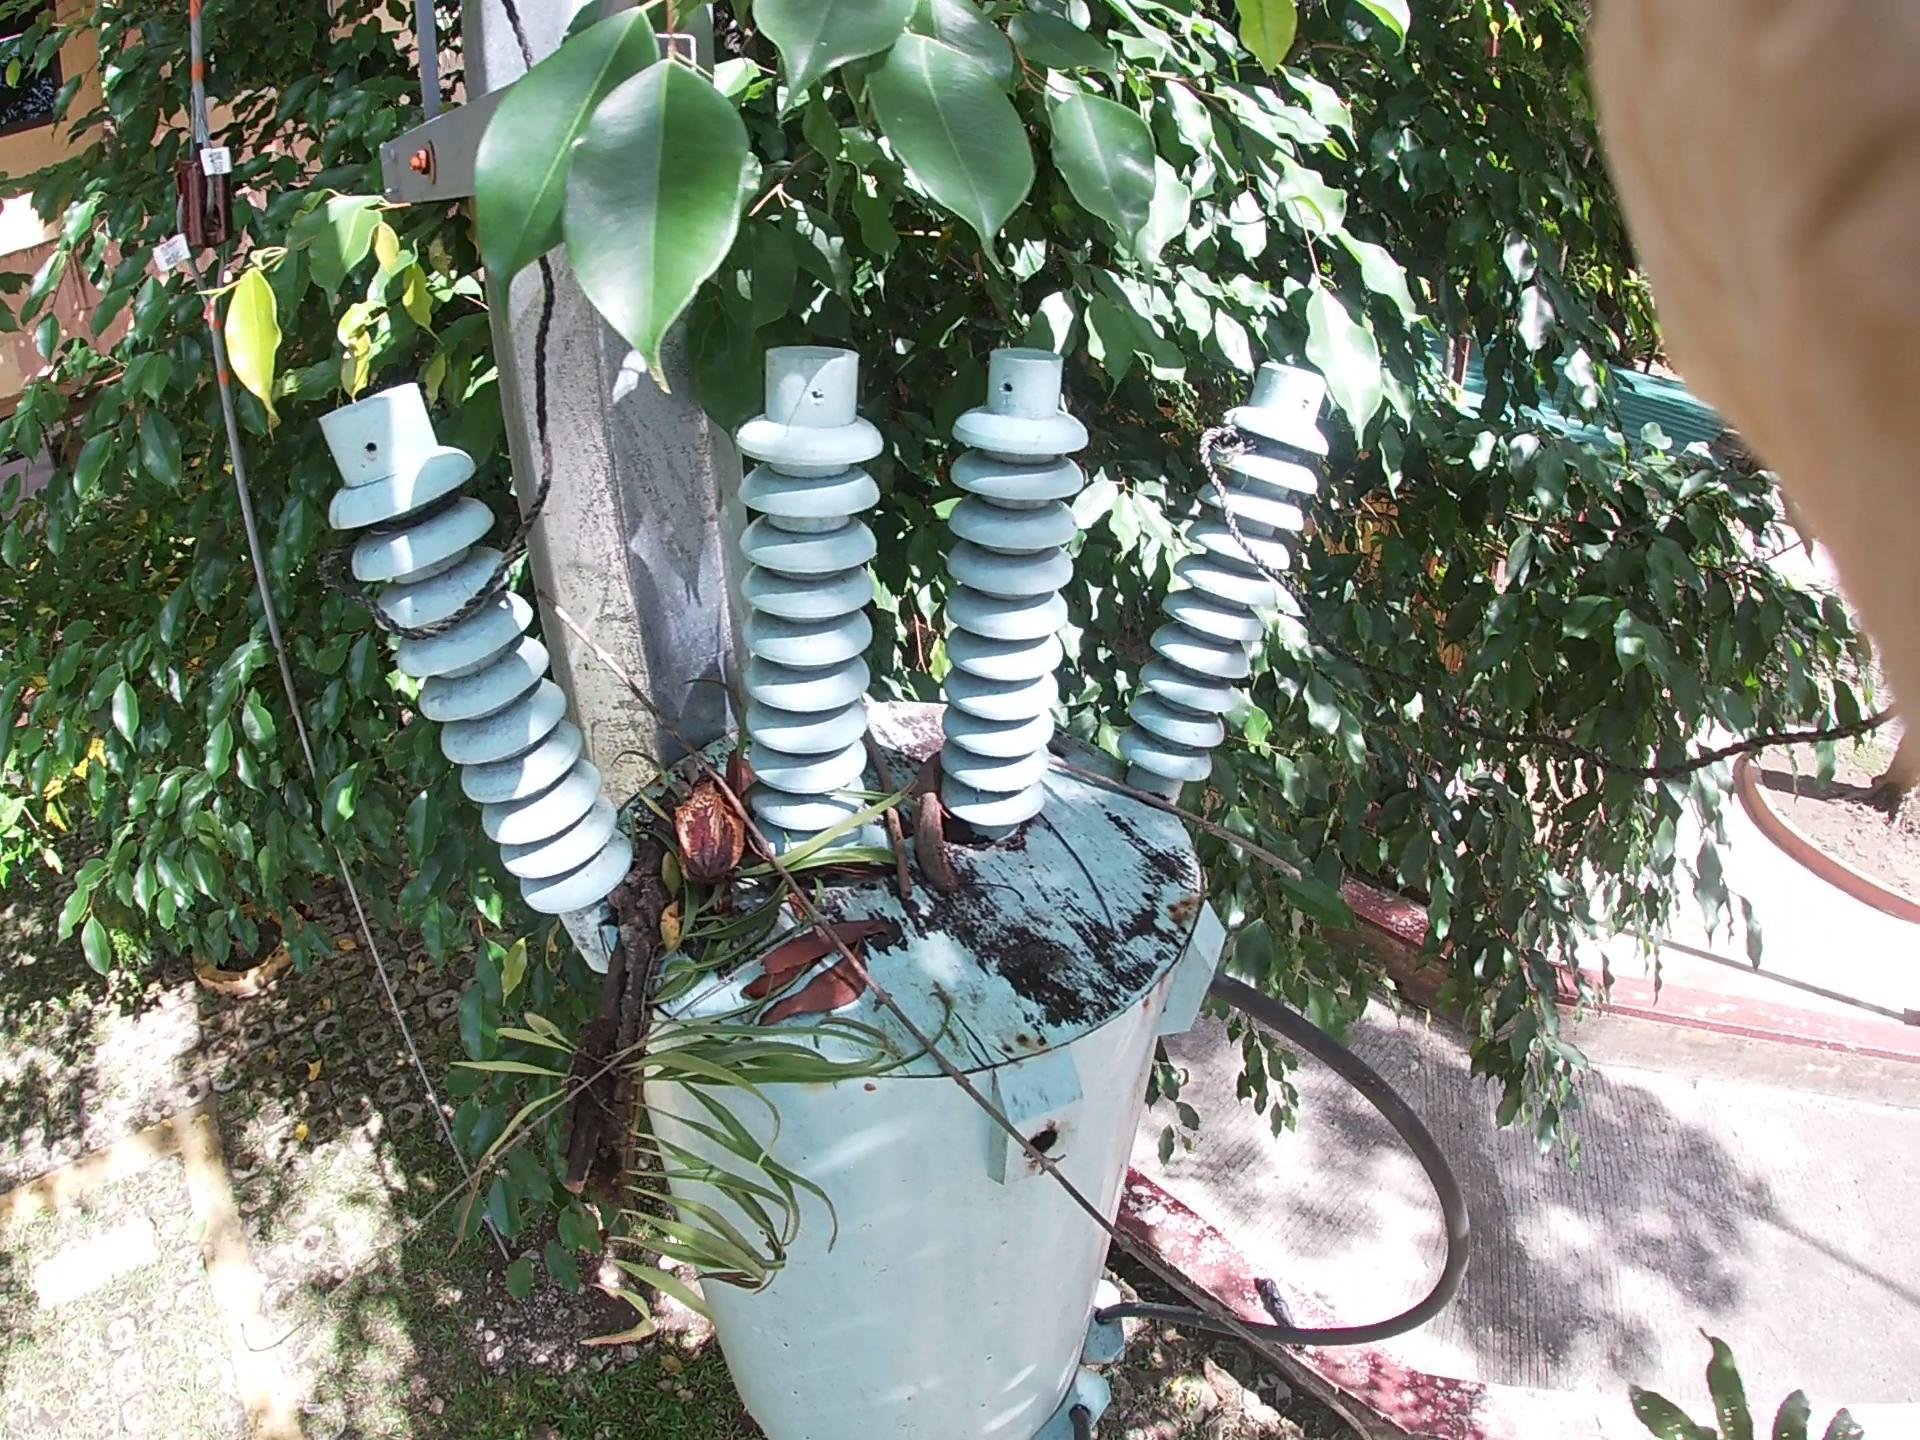branch with leaves: (481, 805, 726, 1355)
leaf: (683, 895, 903, 1032)
mahogany fruit: (868, 703, 1008, 926), (646, 712, 791, 889)
tree branch: (1034, 746, 1270, 930), (865, 673, 954, 935)
